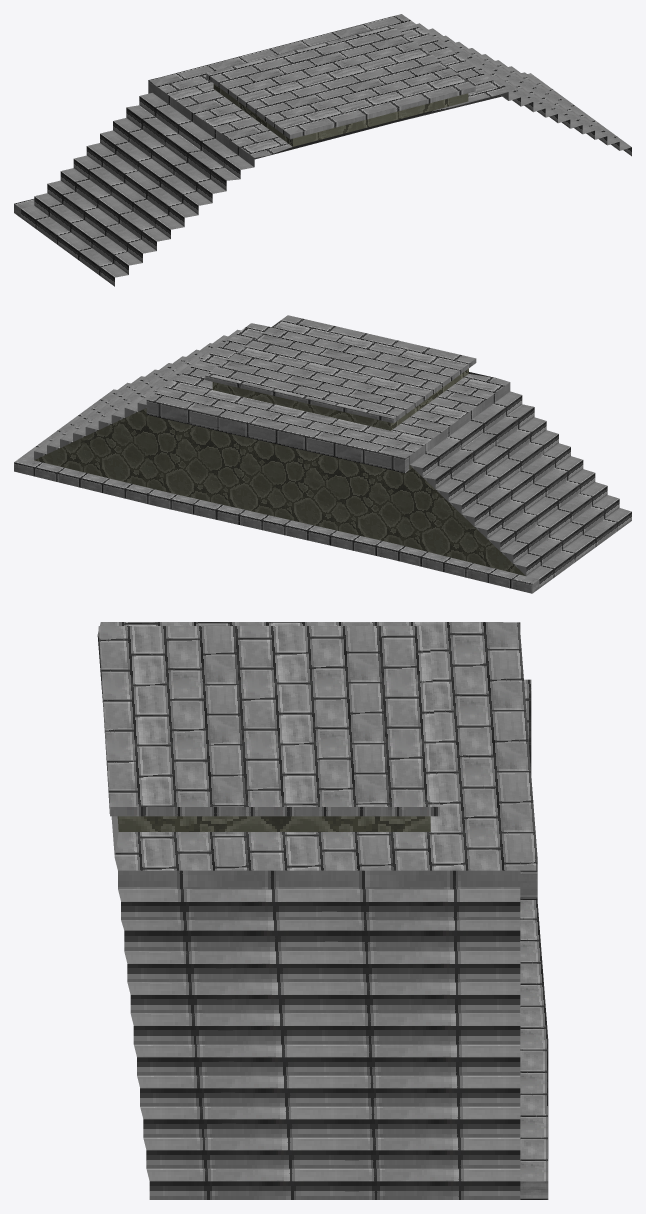
The model's file is Altar.fbx.
3 renders of one model, top to bottom at view 1: azimuth 30°, elevation 25°; view 2: azimuth 150°, elevation 25°; view 3: azimuth 270°, elevation 25°, orthographic. The views are drawn at different scales.
Parts seen in each view (by area): view 1: polySurface62; view 2: polySurface62; view 3: polySurface62.
Part boxes in pixels (left/top/right/bottom): polySurface62: left=14, top=14, right=631, bottom=286; polySurface62: left=14, top=315, right=631, bottom=593; polySurface62: left=97, top=622, right=548, bottom=1199.
Size of the model in its own units: 10.23 by 2.21 by 3.88.
